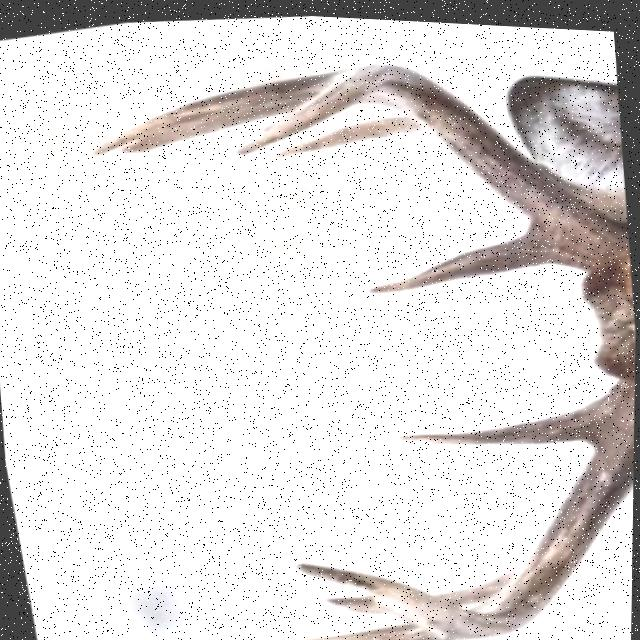L-F: (291, 374, 636, 635)
L-G1: (394, 395, 597, 441)
R-F: (232, 59, 629, 261)
R-G1: (363, 226, 567, 290)
R-G2: (272, 111, 427, 155)
R-G4: (90, 67, 333, 154)
